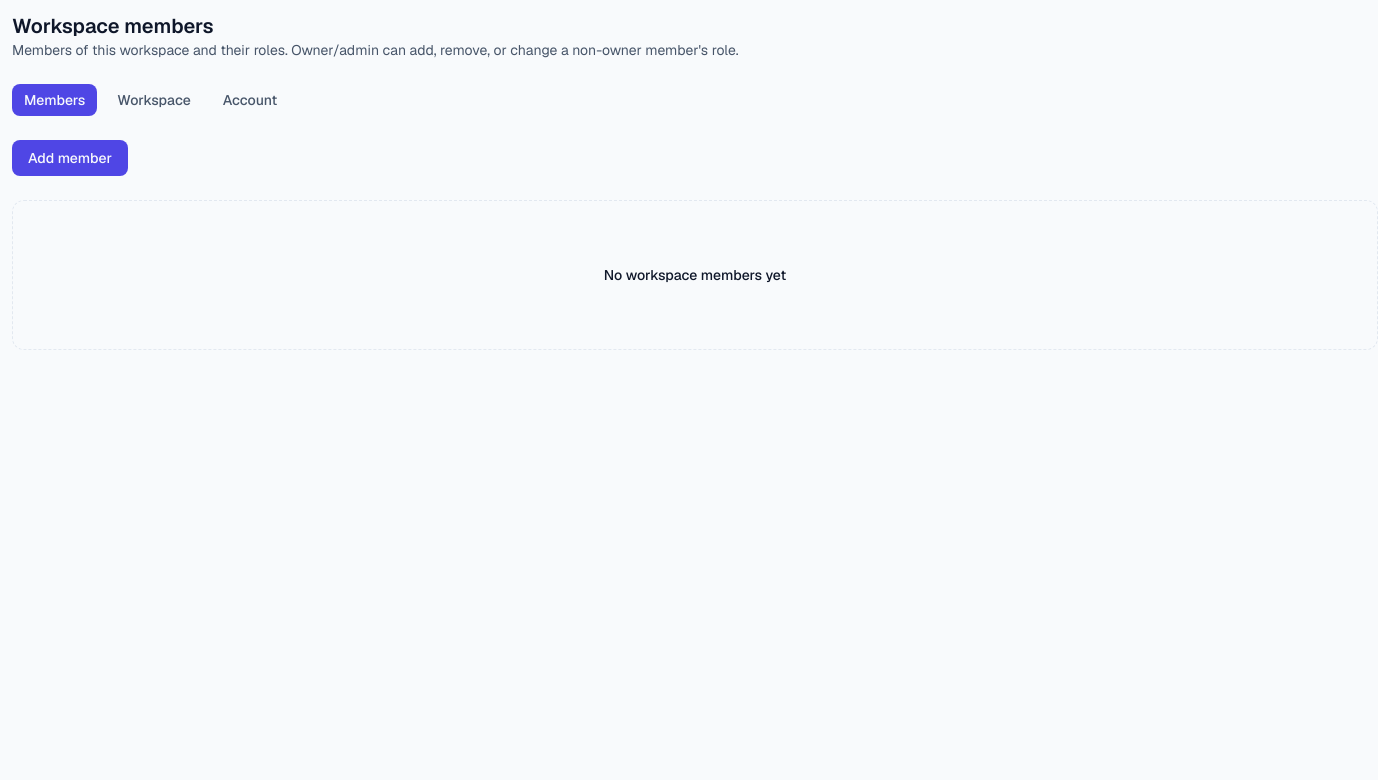
MembersListPage › an admin adds an existing account by exact email, honestly labeled (not 'Invite')
Check: the text "No workspace members yet" is shown, box [604,266,786,284]
Click the button "Add member".
click(70, 158)  # box [12,140,128,176]
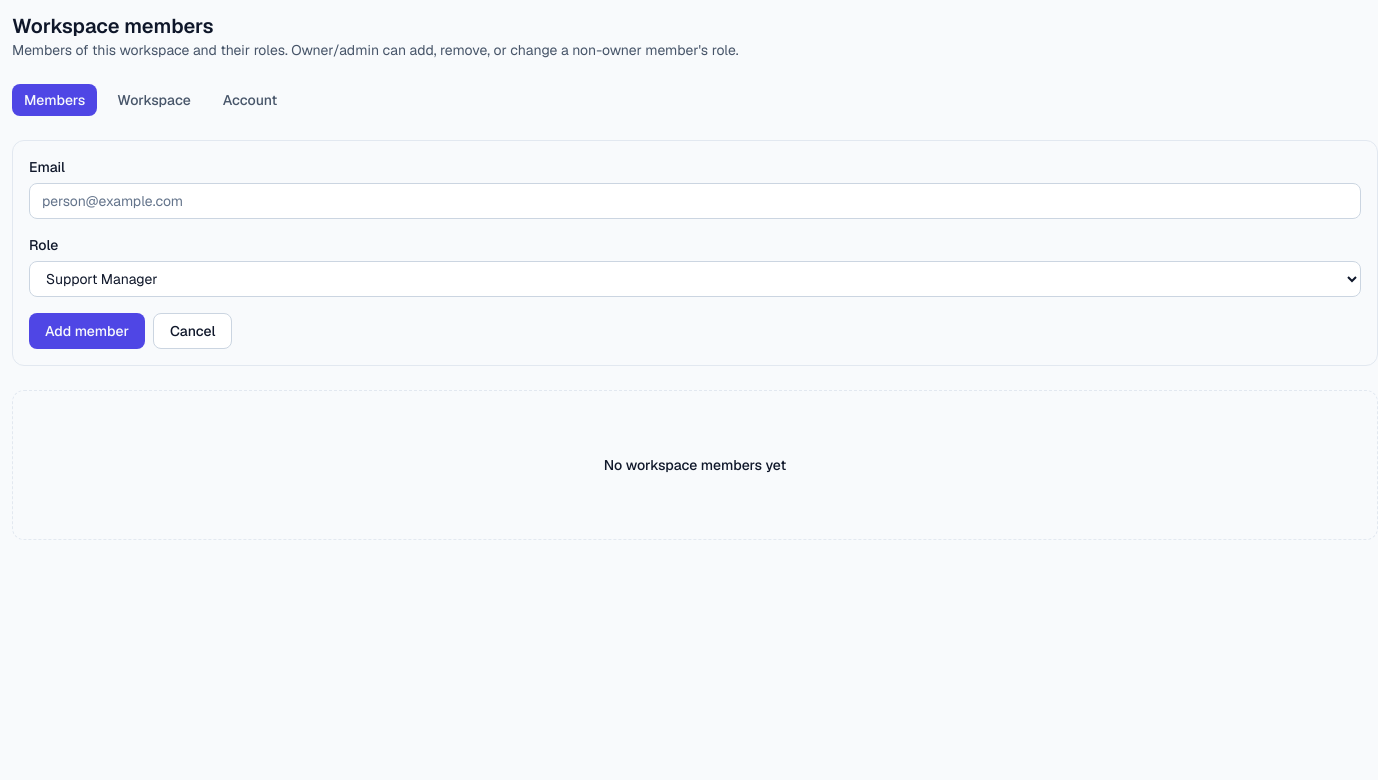
Type "new-member@example.com" into the field labelled "Email".
click(695, 201); type("new-member@example.com")  # box [29,183,1361,219]
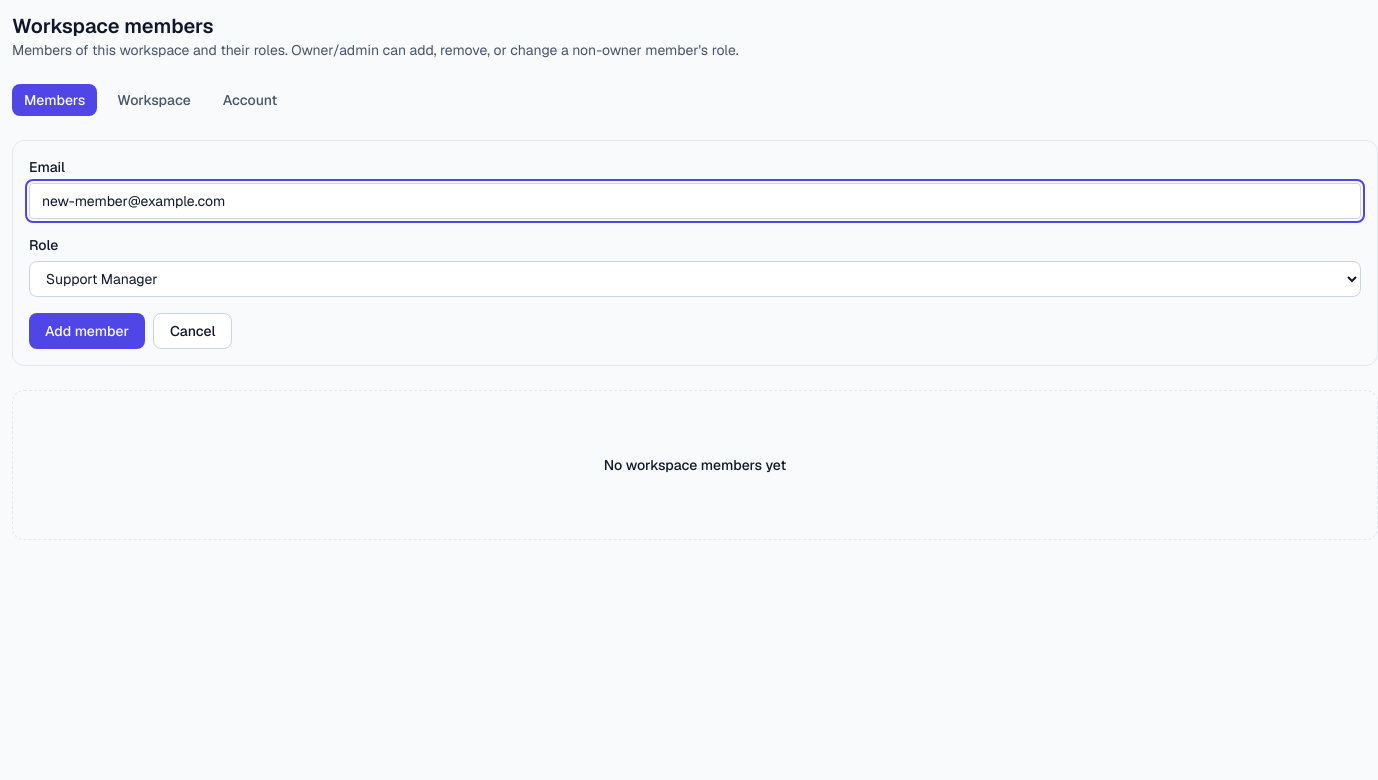
Click the button "Add member".
click(87, 331)  # box [29,313,145,349]
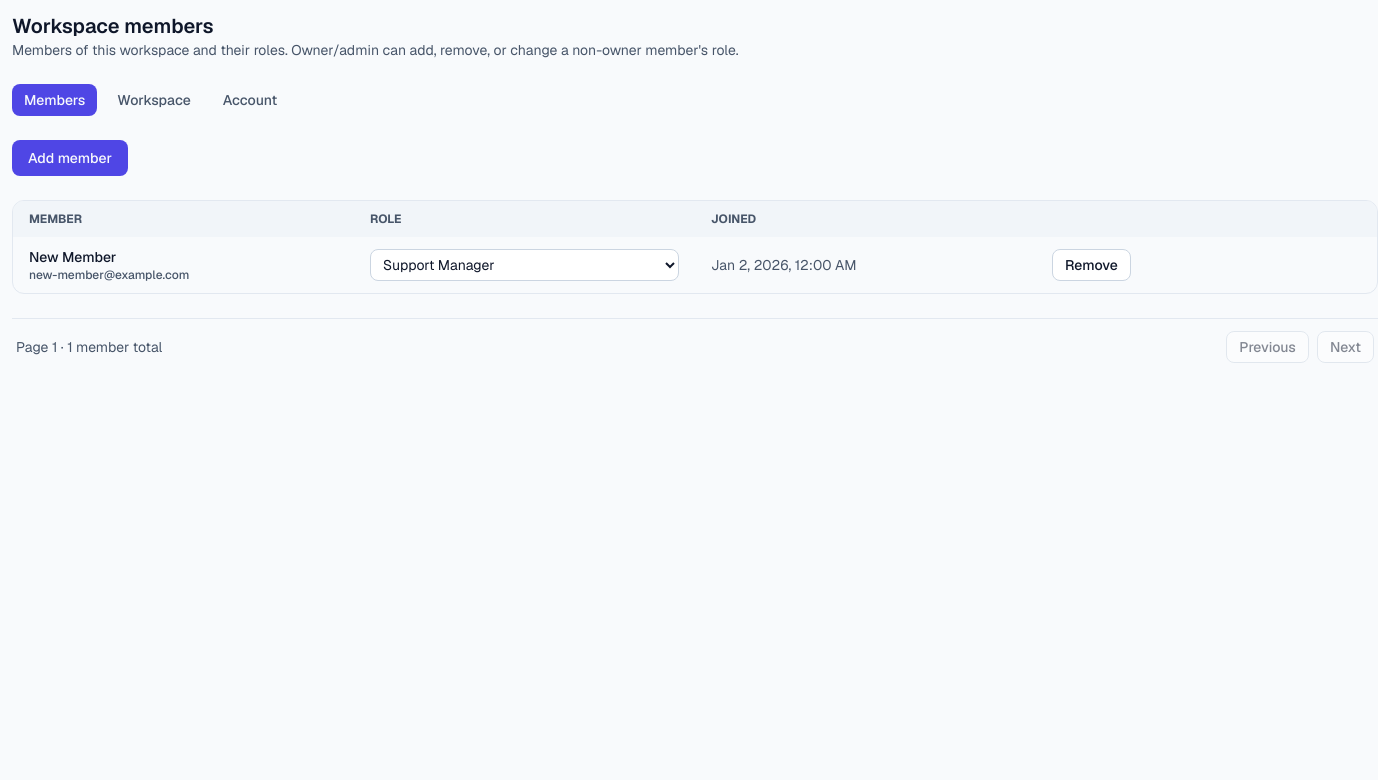
Check: the text "New Member" is shown, box [29,248,116,266]
